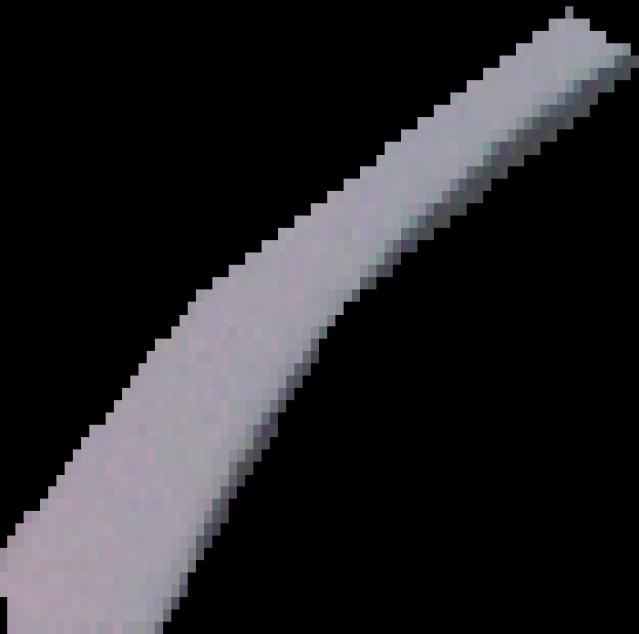lane: (0, 1, 639, 634)
